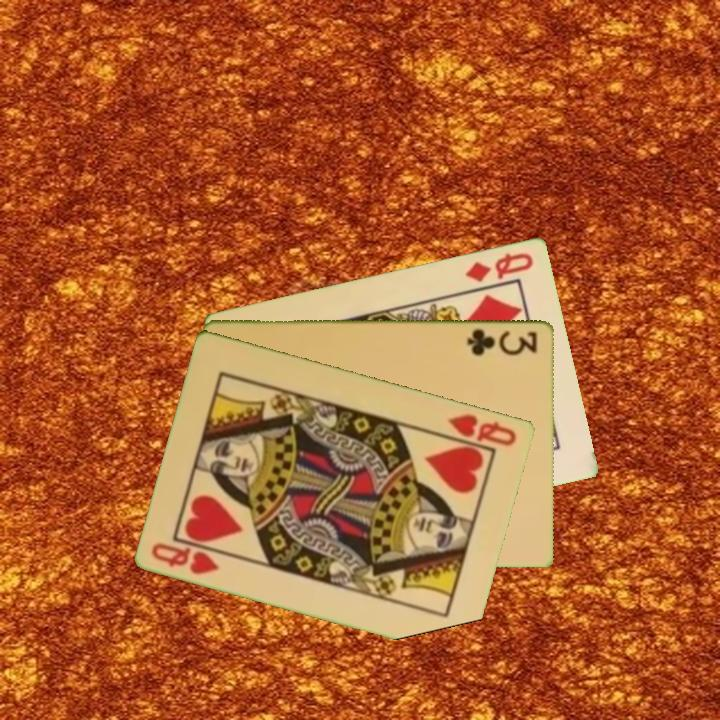3c: (464, 324, 541, 357)
Qd: (462, 248, 537, 285)
Qh: (444, 410, 520, 449), (148, 539, 223, 578)
